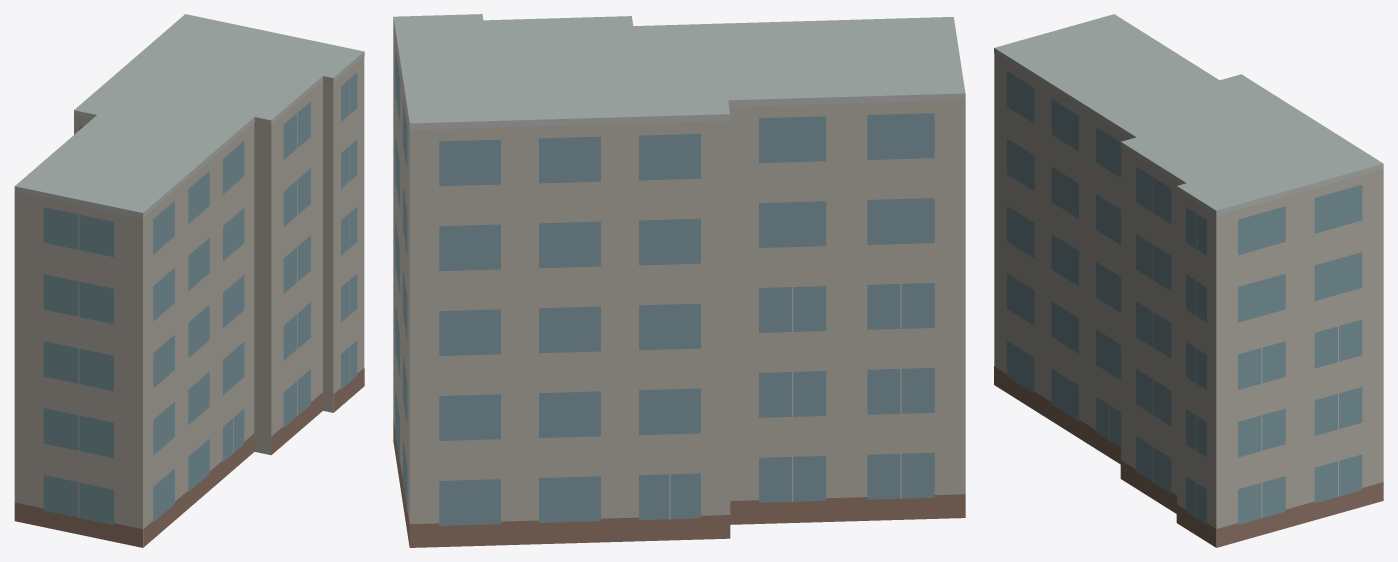
Rendered from survey-upis-32612733.glb.
3 renders of one model, left to right at view 1: azimuth 30°, elevation 25°; view 2: azimuth 150°, elevation 25°; view 3: azimuth 270°, elevation 25°, orthographic. The views are drawn at different scales.
Visible parts, largest first — view 1: survey-upis-32612733.tmp; view 2: survey-upis-32612733.tmp; view 3: survey-upis-32612733.tmp.
Part boxes in pixels (<box>): survey-upis-32612733.tmp: <box>14,14,364,547</box>; survey-upis-32612733.tmp: <box>393,14,965,547</box>; survey-upis-32612733.tmp: <box>994,14,1383,547</box>.
Bounding box in the file's own units: 19.72 × 15.75 × 16.5.
